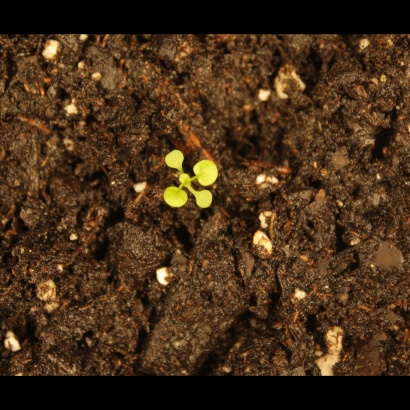leaf: (190, 159, 221, 190), (162, 185, 188, 211), (160, 147, 188, 171), (193, 187, 218, 213), (175, 168, 198, 191)
